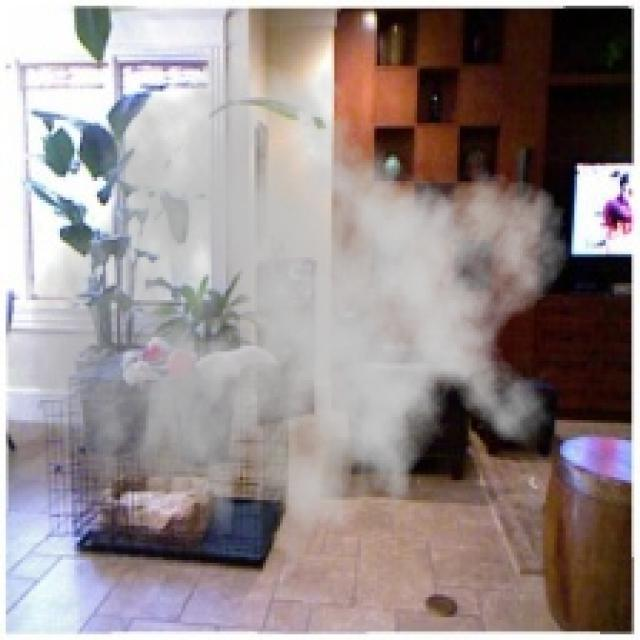Smoke: (29, 34, 572, 594)
